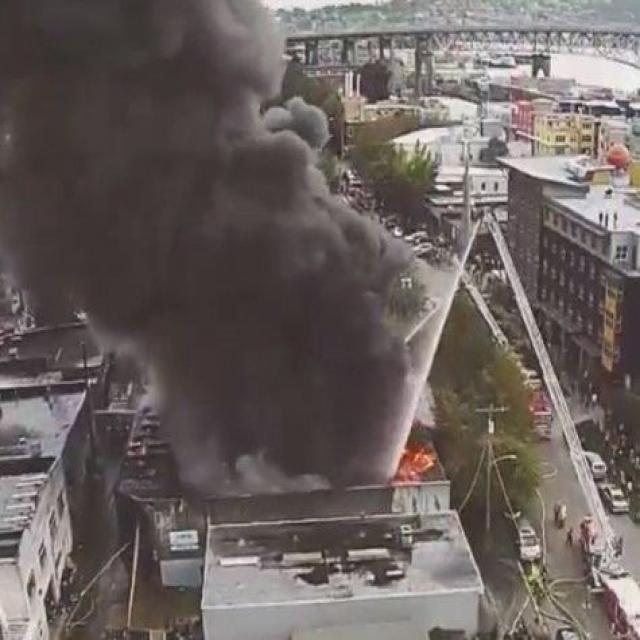Smoke: (0, 0, 417, 503)
